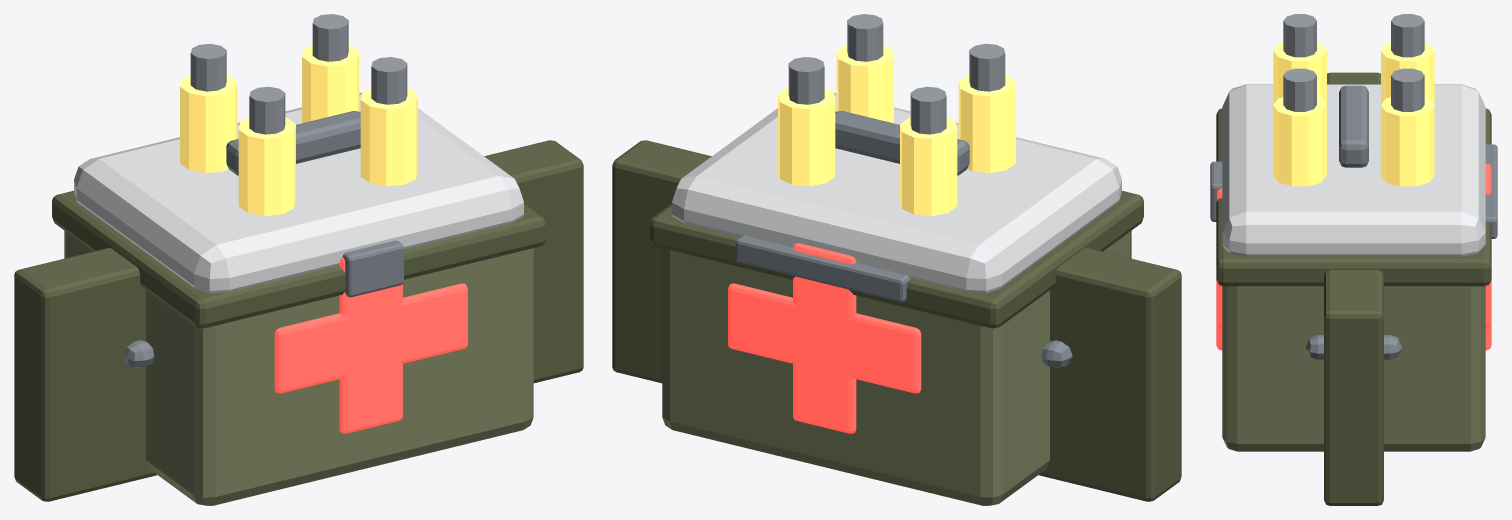
File: props.glb
3 renders of one model, left to right at view 1: azimuth 30°, elevation 25°; view 2: azimuth 150°, elevation 25°; view 3: azimuth 270°, elevation 25°, orthographic. The views are drawn at different scales.
Visible parts, largest first — view 1: crate, lid, band1, lidrim, band2, crossH, crossV, shell1, shell0, shell2, shell3, handle (+6 smaller); view 2: crate, lid, band1, band2, crossH2, lidrim, crossV2, shell3, shell2, hinge, shell0, shell1 (+6 smaller); view 3: crate, lid, band2, lidrim, shell1, shell3, handle, shell0, shell2, tip1, tip3, tip0 (+6 smaller).
Boxes of the visible parts, x1,y1,x2,y2 form: crate: (64, 230, 533, 505); lid: (74, 92, 523, 293); band1: (14, 248, 157, 501); lidrim: (52, 190, 545, 328); band2: (484, 140, 583, 383); crossH: (274, 283, 467, 393); crossV: (339, 257, 402, 433); shell1: (360, 87, 417, 186); shell0: (238, 117, 295, 215); shell2: (180, 74, 237, 172); shell3: (302, 44, 359, 123); handle: (226, 111, 360, 175); crate: (662, 230, 1131, 505); lid: (672, 92, 1121, 293); band1: (1038, 248, 1181, 501); band2: (612, 140, 711, 383); crossH2: (728, 283, 921, 393); lidrim: (650, 190, 1143, 328); crossV2: (793, 243, 856, 433); shell3: (778, 87, 835, 186); shell2: (900, 117, 957, 215); hinge: (735, 235, 910, 302); shell0: (958, 74, 1015, 172); shell1: (836, 44, 893, 123); crate: (1222, 286, 1485, 451); lid: (1222, 84, 1485, 256); band2: (1324, 270, 1383, 505); lidrim: (1216, 108, 1491, 286); shell1: (1273, 97, 1326, 186); shell3: (1381, 97, 1434, 186); handle: (1339, 85, 1368, 167); shell0: (1273, 42, 1326, 104); shell2: (1381, 42, 1434, 104); tip1: (1283, 68, 1316, 111); tip3: (1391, 68, 1424, 111); tip0: (1283, 14, 1316, 57).
Size of the model in its own units: 0.96 by 0.625 by 0.48.
